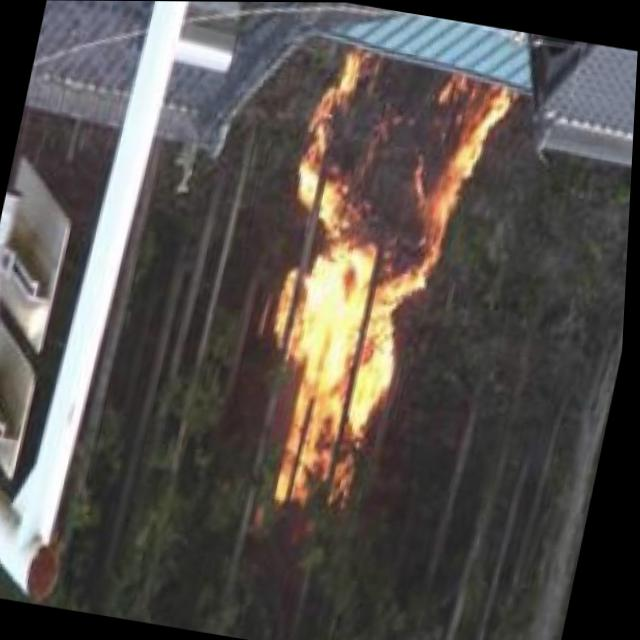Fire: (231, 45, 502, 525)
